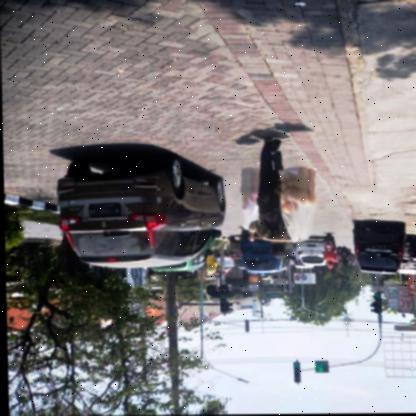Traffic Light -Green-: (291, 361, 300, 384), (372, 292, 381, 314), (218, 289, 225, 311)
